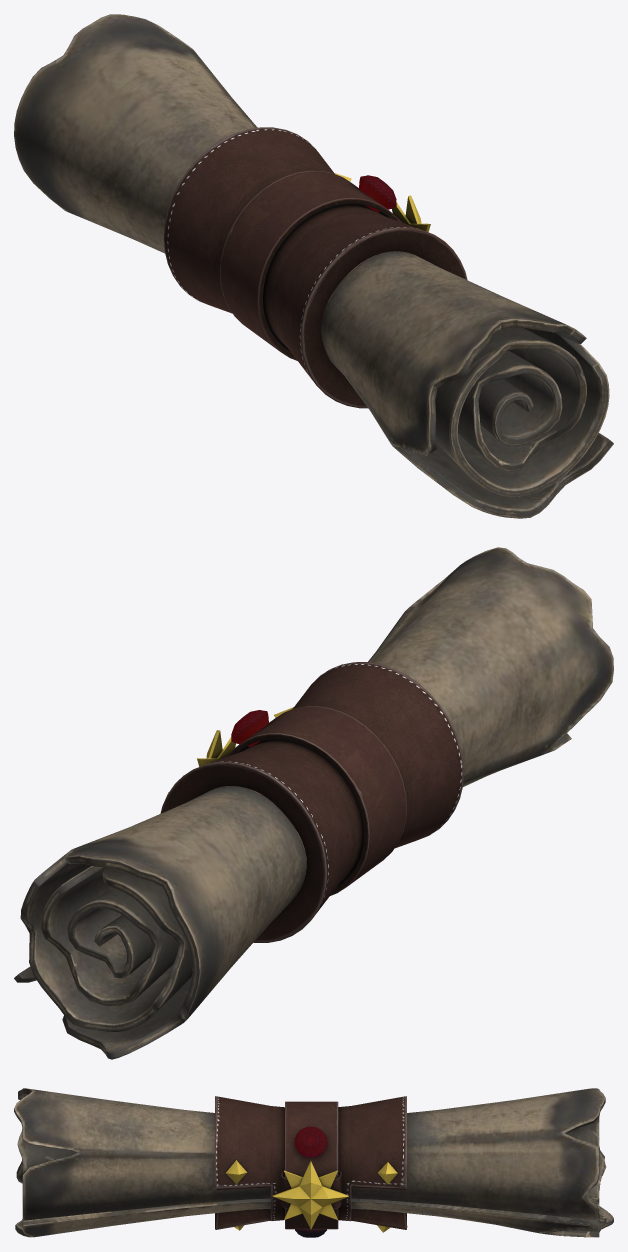
The model's file is scroll.fbx.
3 views of the same model, one above another, from view 1: azimuth 30°, elevation 25°; view 2: azimuth 150°, elevation 25°; view 3: azimuth 270°, elevation 25° (orthographic). The views are drawn at different scales.
Parts seen in each view (by area): view 1: pCube1, pCylinder1, pCylinder2, dimond:dimond:pCone1; view 2: pCube1, pCylinder1, pCylinder2, dimond:dimond:pCone1; view 3: pCube1, pCylinder1, pCylinder2, pCube3, dimond:dimond:pCone1, pCube2, pPyramid5, pPlane1.
Part boxes in pixels (x1,y1,x2,y2): pCube1: (14, 14, 613, 518); pCylinder1: (163, 127, 467, 408); pCylinder2: (220, 170, 400, 360); dimond:dimond:pCone1: (359, 175, 396, 212); pCube1: (14, 547, 613, 1059); pCylinder1: (160, 662, 463, 942); pCylinder2: (226, 706, 406, 895); dimond:dimond:pCone1: (231, 710, 268, 746); pCube1: (14, 1088, 613, 1237); pCylinder1: (215, 1096, 407, 1229); pCylinder2: (285, 1101, 338, 1229); pCube3: (273, 1160, 348, 1229); dimond:dimond:pCone1: (294, 1126, 327, 1237); pCube2: (284, 1170, 337, 1219); pPyramid5: (225, 1160, 397, 1232); pPlane1: (281, 1169, 341, 1209).
Size of the model in its own units: 53.56 by 50.02 by 200.
8 materials, 8 textured.
